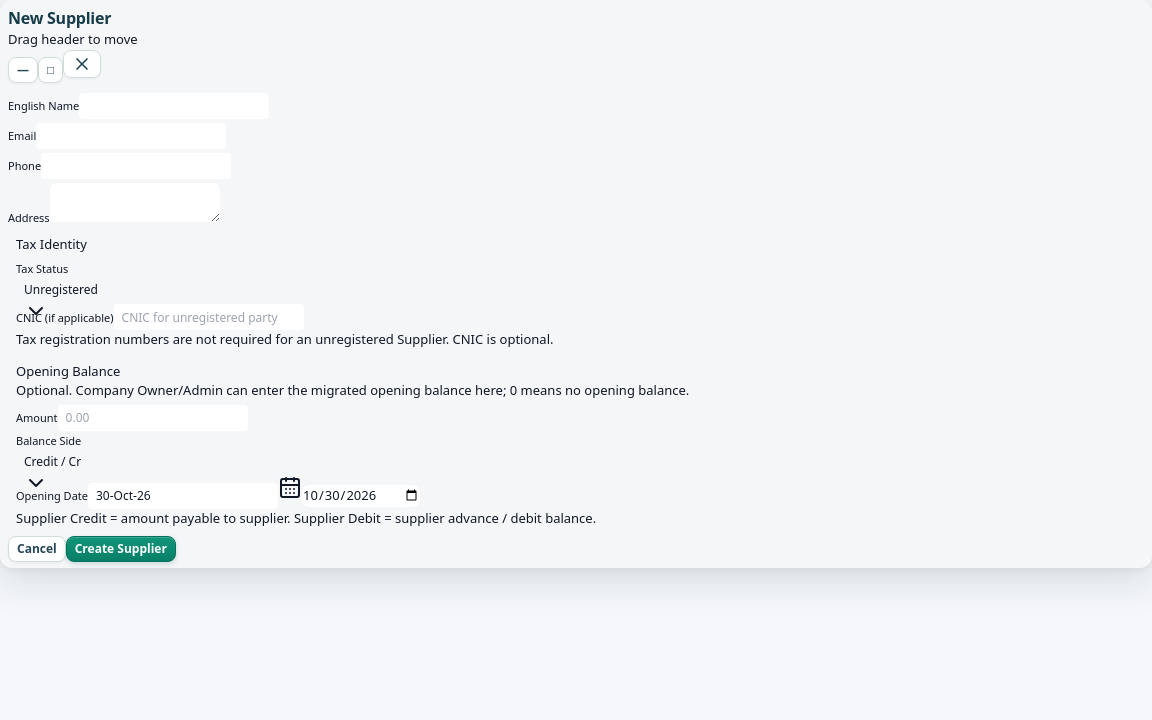
Test case: Canonical quick master editors › keeps failed saves open and prevents concurrent duplicate posting
The image size is (1152, 720).
Type "Party" into the field named "English Name".
click(174, 106); type("Party")  # box x1=79 y1=93 x2=269 y2=119
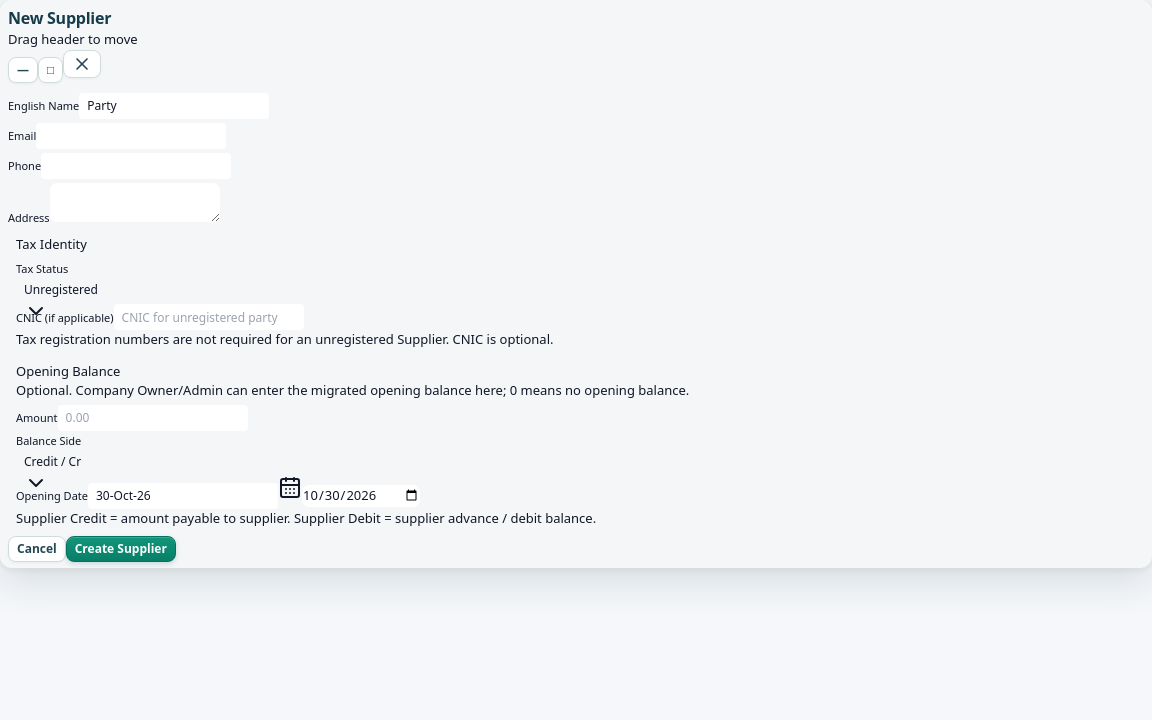
Submit the form, box x1=8 y1=93 x2=689 y2=562
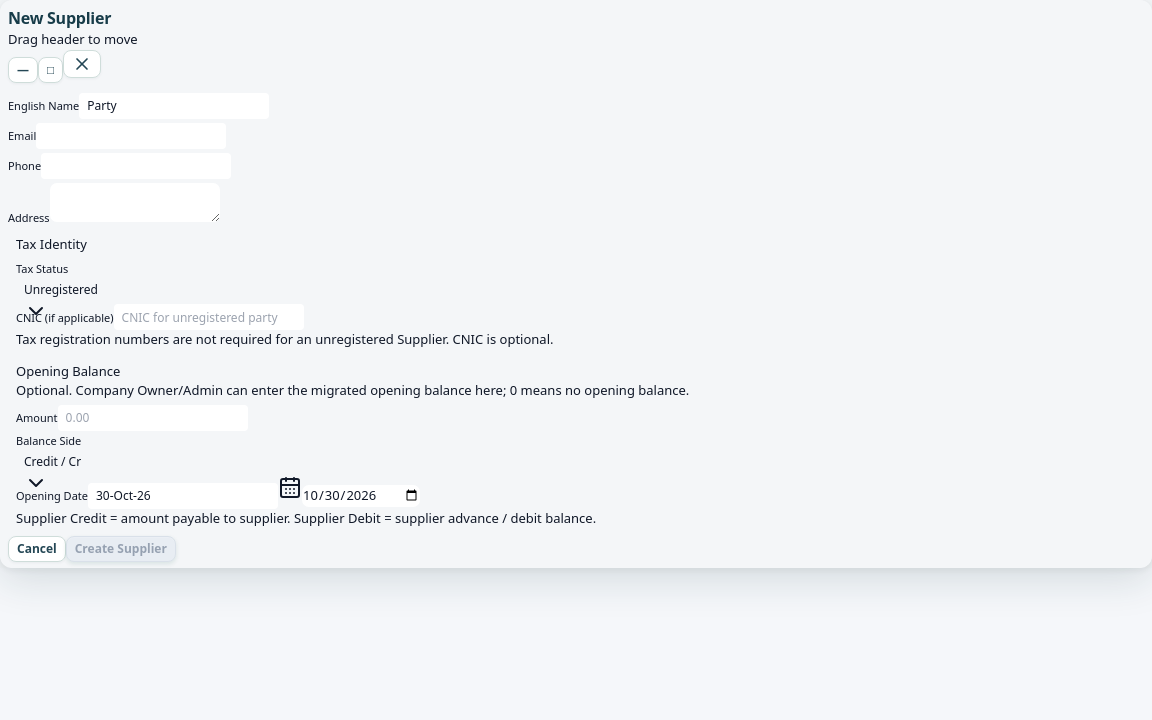
Submit the form, box x1=8 y1=93 x2=689 y2=562
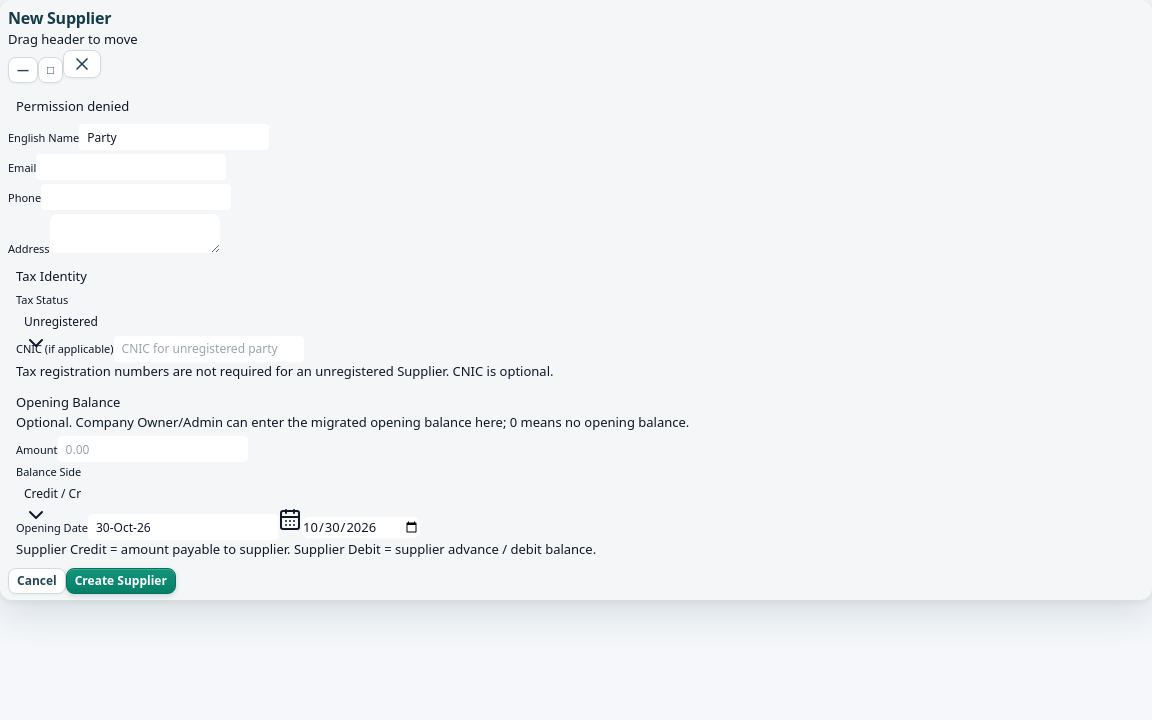
Expected: the message reads "Permission denied", x1=16 y1=97 x2=129 y2=115
